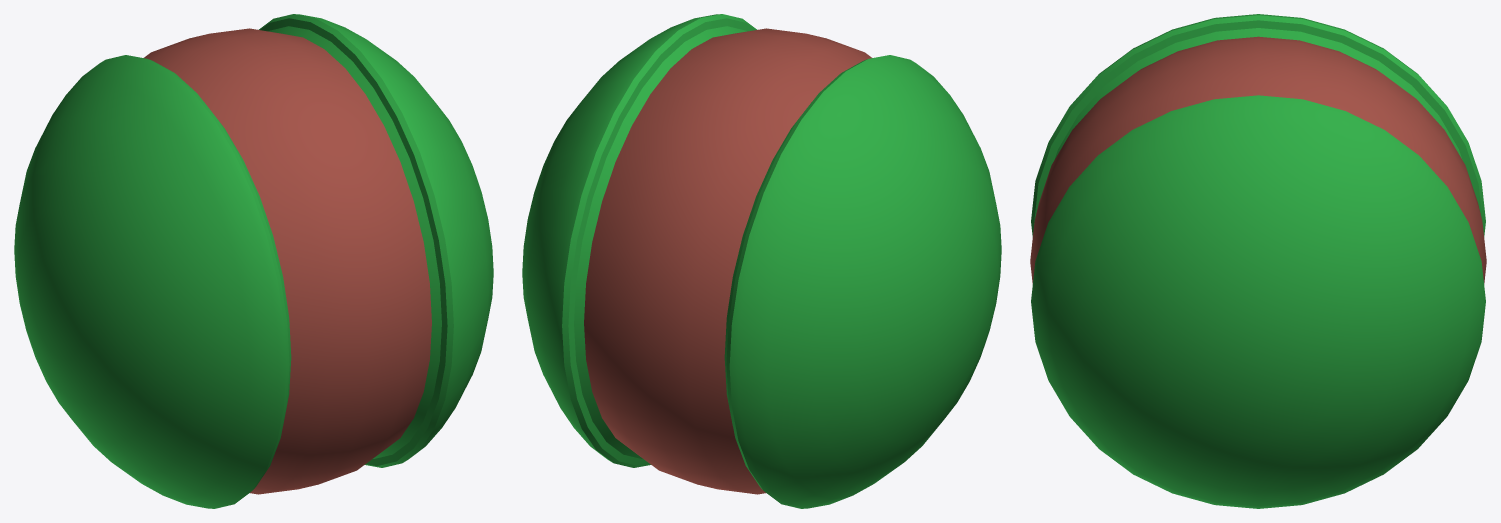
Rendered from Player.fbx.
3 renders of one model, left to right at view 1: azimuth 30°, elevation 25°; view 2: azimuth 150°, elevation 25°; view 3: azimuth 270°, elevation 25°, orthographic. The views are drawn at different scales.
Visible parts, largest first — view 1: Player; view 2: Player; view 3: Player.
Boxes of the visible parts, <box> form: Player: <box>14,14,493,508</box>; Player: <box>522,14,1001,508</box>; Player: <box>1030,14,1486,508</box>.
Bounding box in the file's own units: 92.79 × 92.79 × 92.79.
